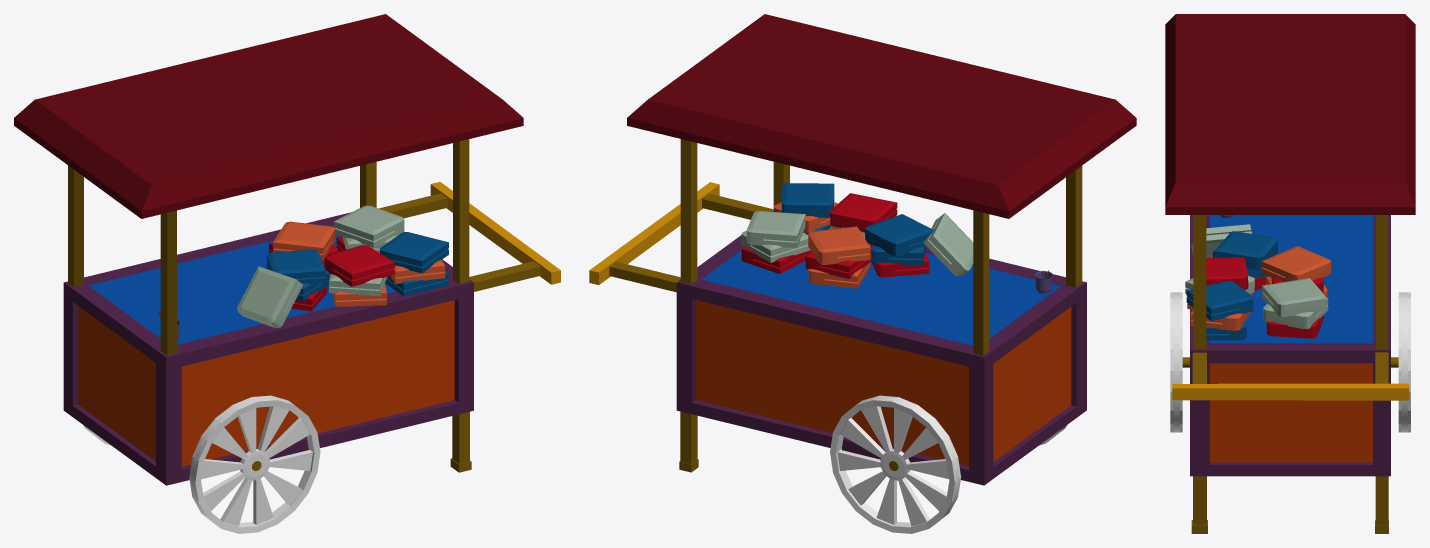
The model's file is TT_Stall_cart.fbx.
3 views of the same model, side by side, from view 1: azimuth 30°, elevation 25°; view 2: azimuth 150°, elevation 25°; view 3: azimuth 270°, elevation 25° (orthographic).
Visible parts, largest first — view 1: Cart; view 2: Cart; view 3: Cart.
Part boxes in pixels (<box>): Cart: <box>14,14,560,533</box>; Cart: <box>589,14,1136,533</box>; Cart: <box>1165,14,1415,533</box>.
Size of the model in its own units: 327 by 274 by 171.
